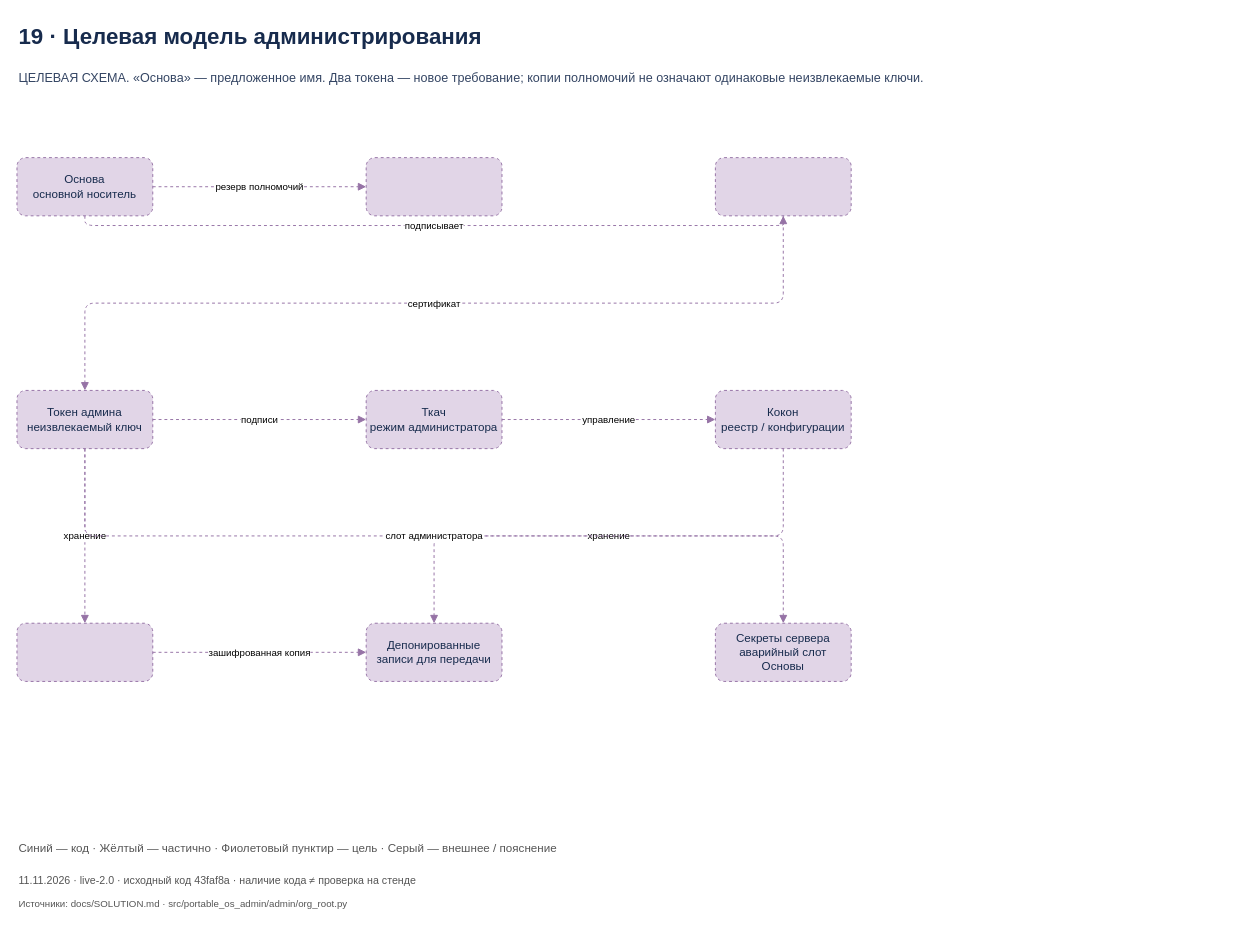
Some shapes in this 1237 by 945 pixel diagram are drawn without their labels. Here are the shapes that lost their labels. From the top down, the centre of each, then its label:
At (433,186): "Резерв токен или файл".
At (782,186): "Корневой допуск администраторов".
At (84,651): "Записи своих Нитей на токене админа".
